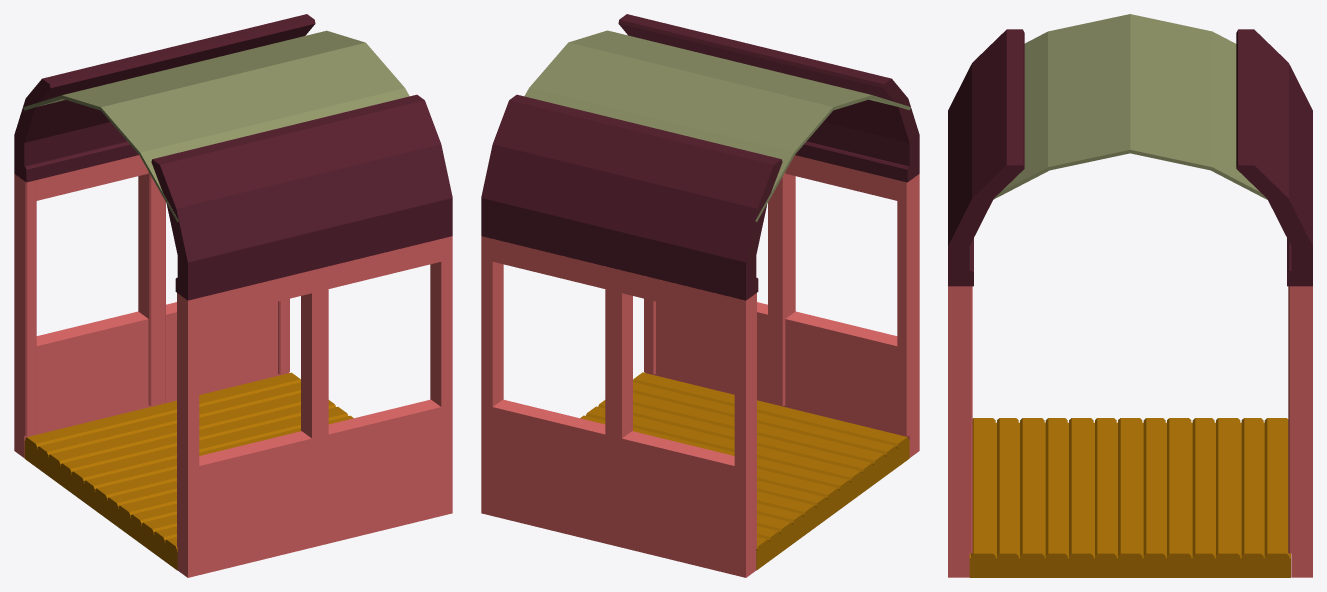
The model's file is TrainEnterior.fbx.
3 renders of one model, left to right at view 1: azimuth 30°, elevation 25°; view 2: azimuth 150°, elevation 25°; view 3: azimuth 270°, elevation 25°, orthographic. The views are drawn at different scales.
Parts seen in each view (by area): view 1: pPlane8; view 2: pPlane8; view 3: pPlane8.
Part boxes in pixels (<box>): pPlane8: <box>14,14,452,577</box>; pPlane8: <box>481,14,919,577</box>; pPlane8: <box>948,14,1312,577</box>.
Bounding box in the file's own units: 200 × 294 × 227.
